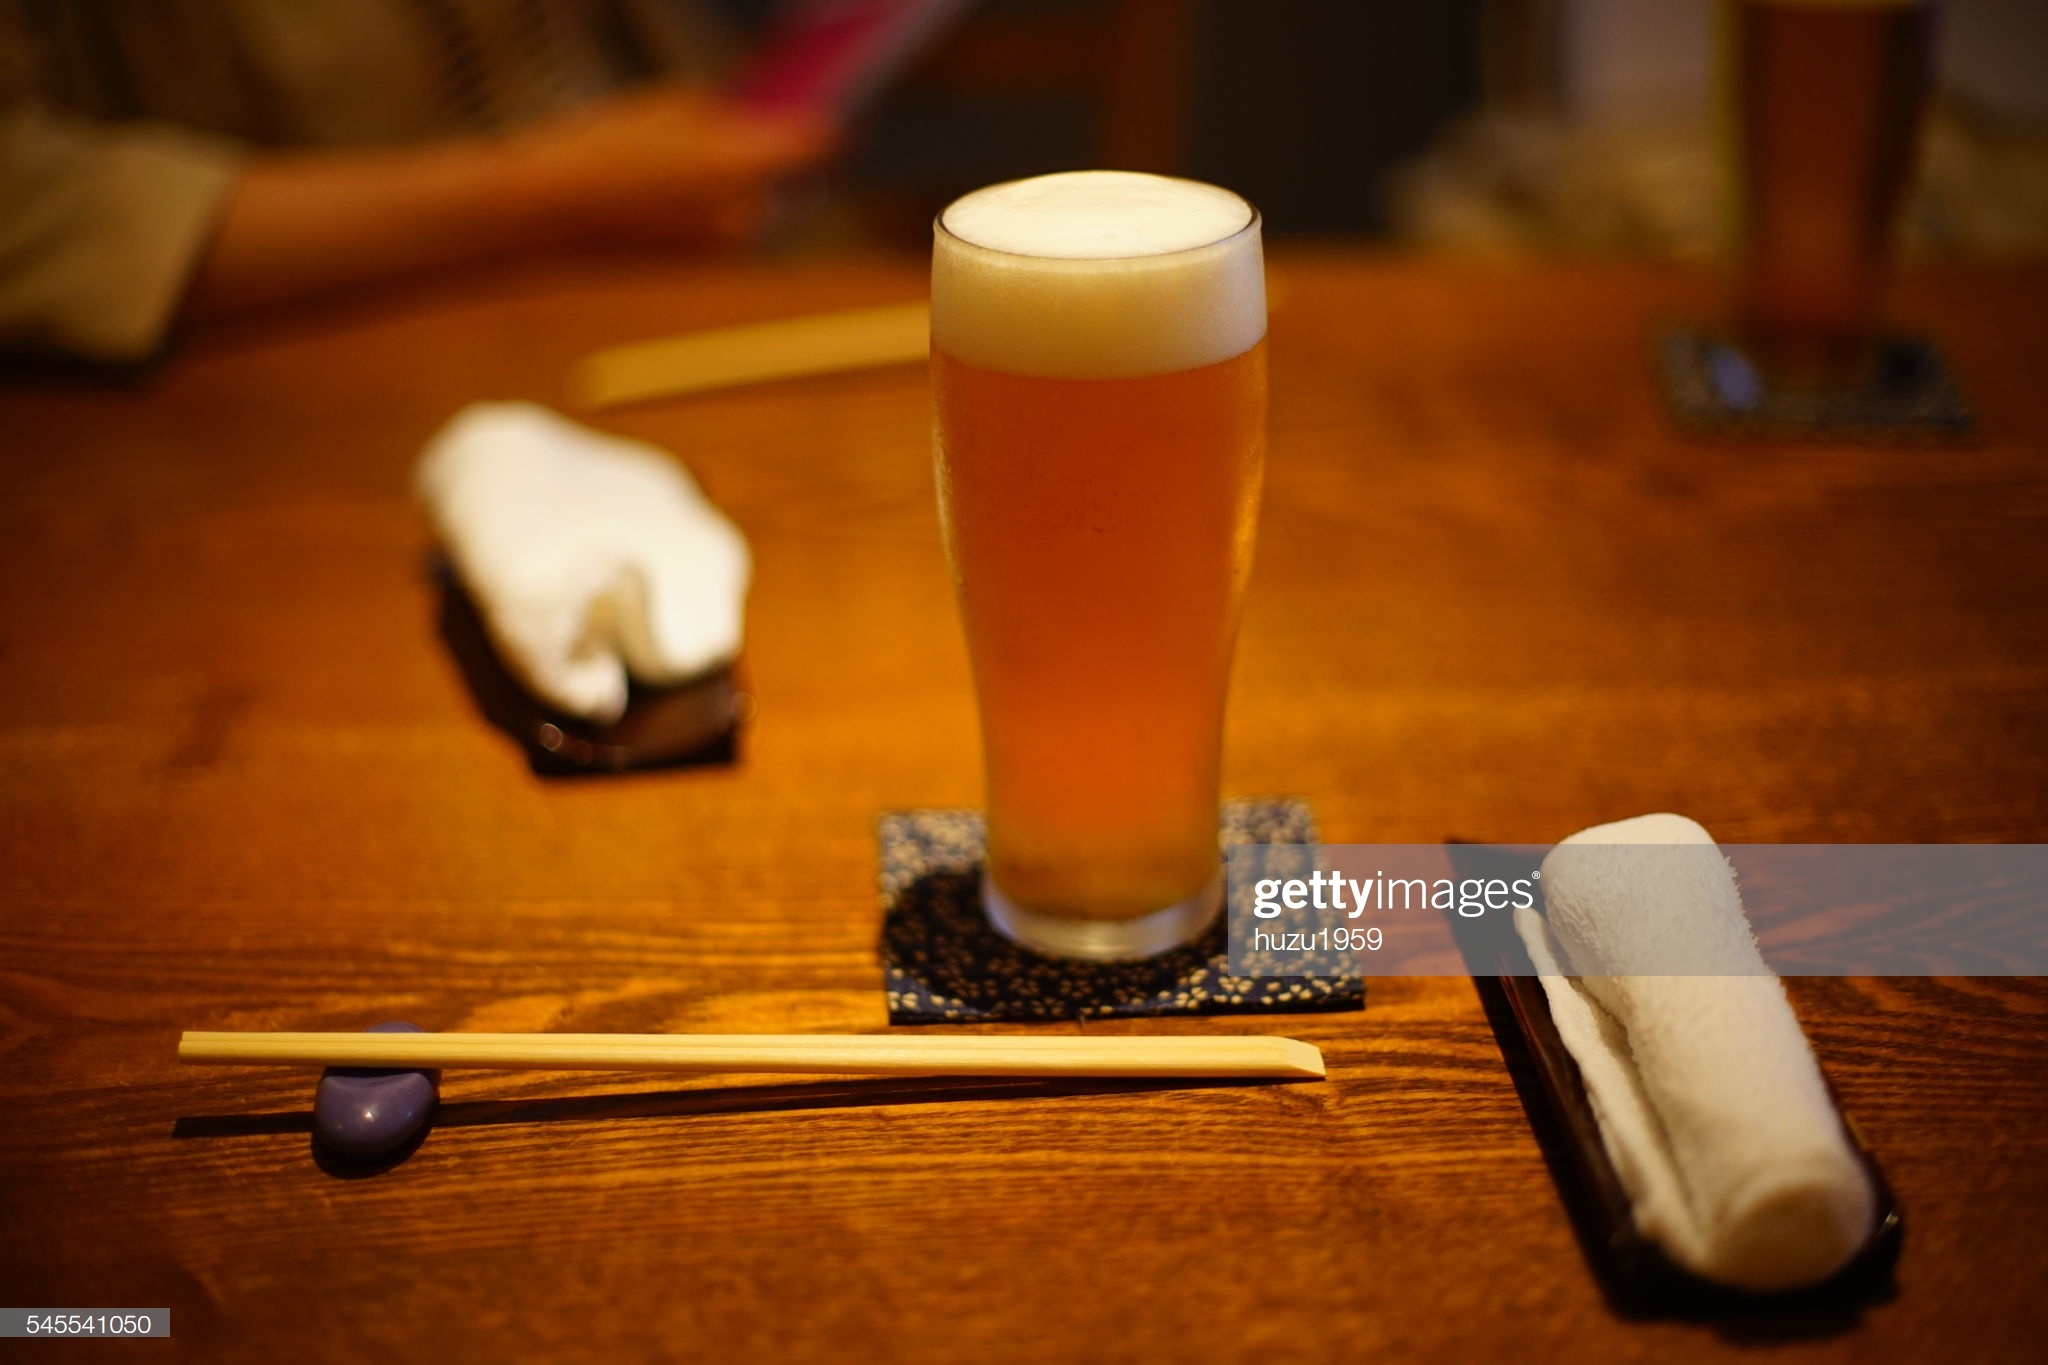glassBeer: (946, 168, 1259, 973)
